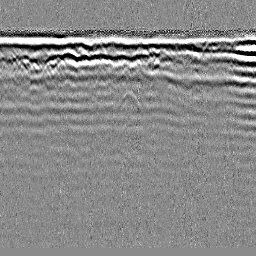cavity: (117, 90, 142, 108)
